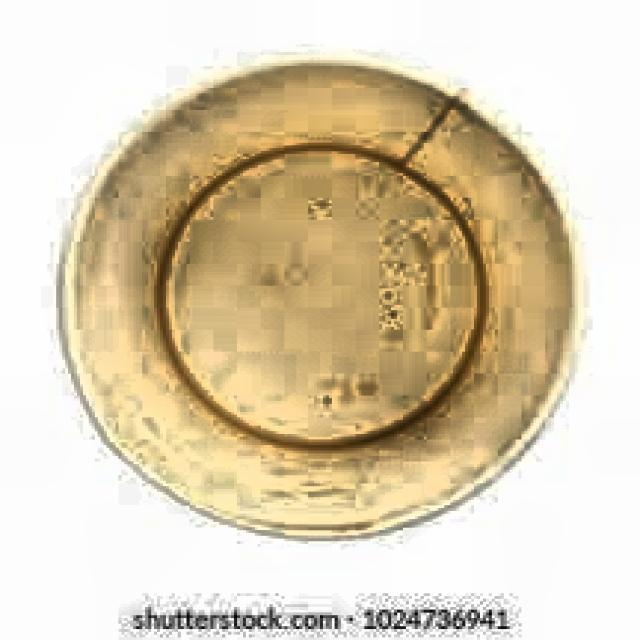Cup: (49, 46, 594, 571)
